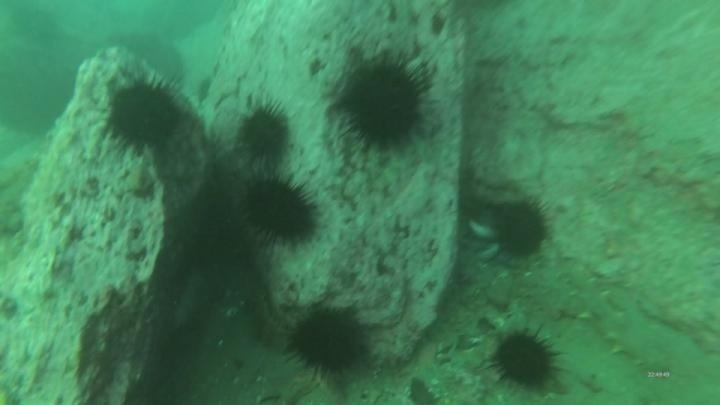echinus: (340, 57, 430, 152), (104, 76, 186, 154), (286, 305, 370, 380), (239, 174, 320, 247), (488, 326, 563, 393), (489, 197, 553, 261), (235, 100, 294, 165)
holothurian: (564, 268, 707, 375)
